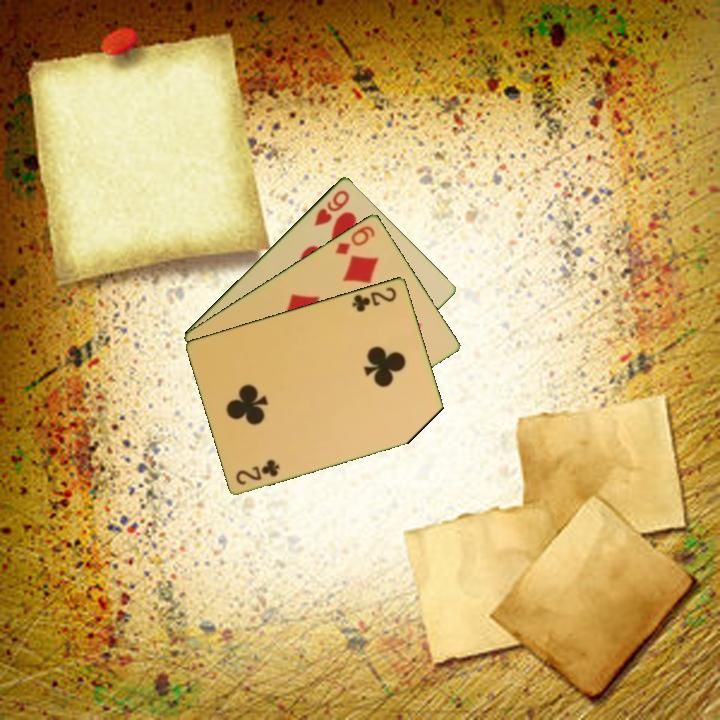2c: (348, 283, 400, 315), (232, 456, 283, 488)
6d: (331, 221, 378, 257)
9h: (310, 186, 352, 229)
